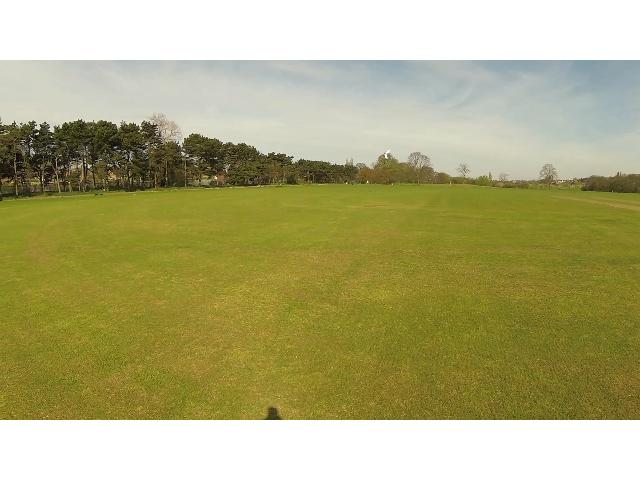Anti-Drone: (379, 146, 397, 164)
